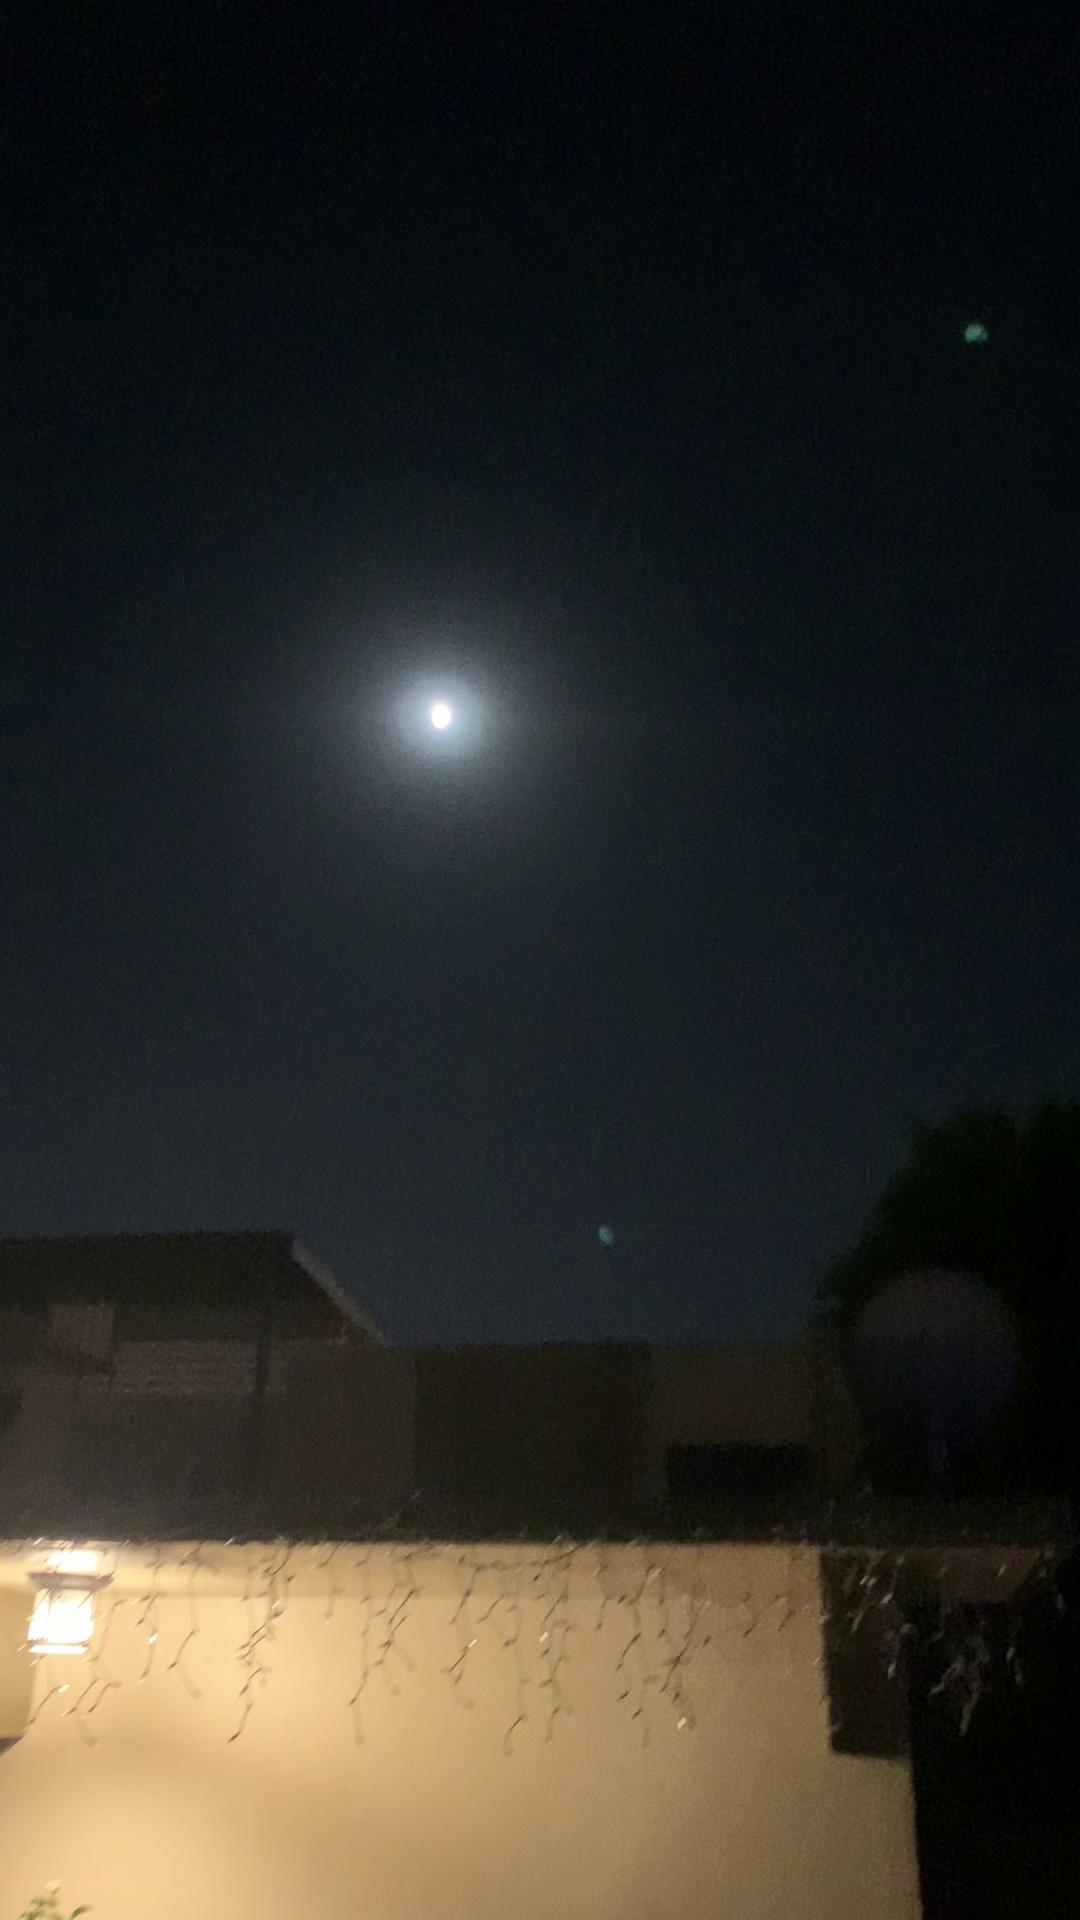moon: (398, 684, 485, 764)
